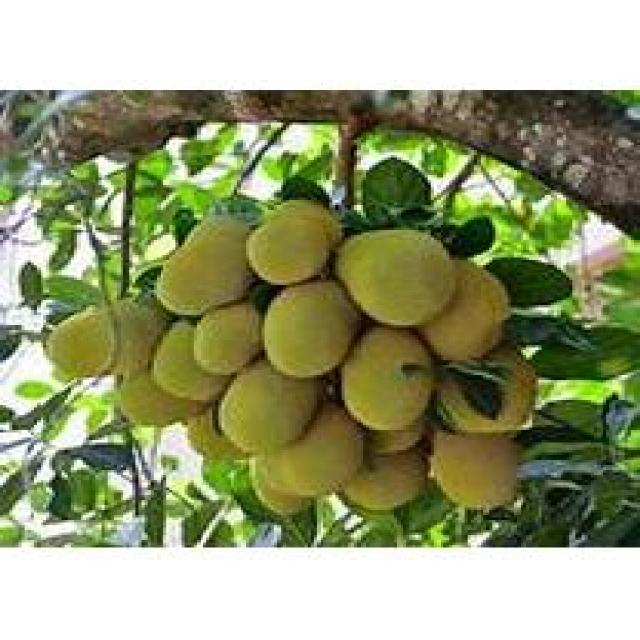Fruit: (298, 202, 532, 422)
